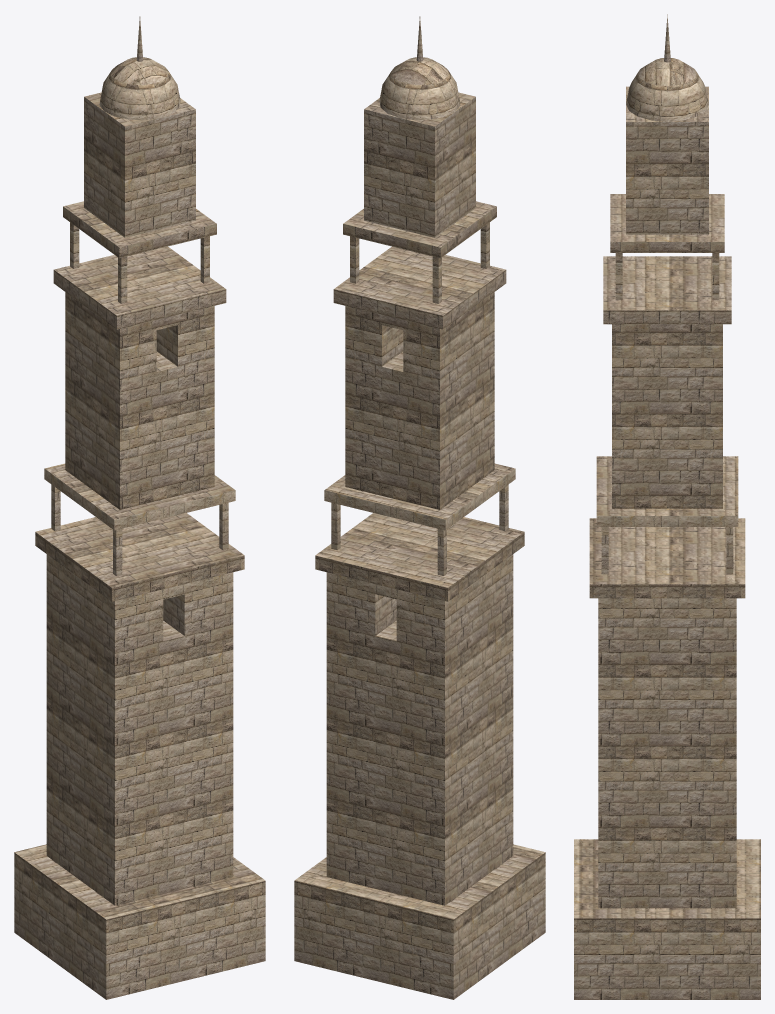
File: octagon.glb
3 views of the same model, side by side, from view 1: azimuth 30°, elevation 25°; view 2: azimuth 150°, elevation 25°; view 3: azimuth 270°, elevation 25° (orthographic).
Visible parts, largest first — view 1: octagon; view 2: octagon; view 3: octagon.
Part boxes in pixels (<box>): octagon: <box>14,16,265,999</box>; octagon: <box>294,16,545,999</box>; octagon: <box>574,14,760,999</box>.
Size of the model in its own units: 5.4 by 30.18 by 5.4.
Materials: 1 (1 with a texture image).
